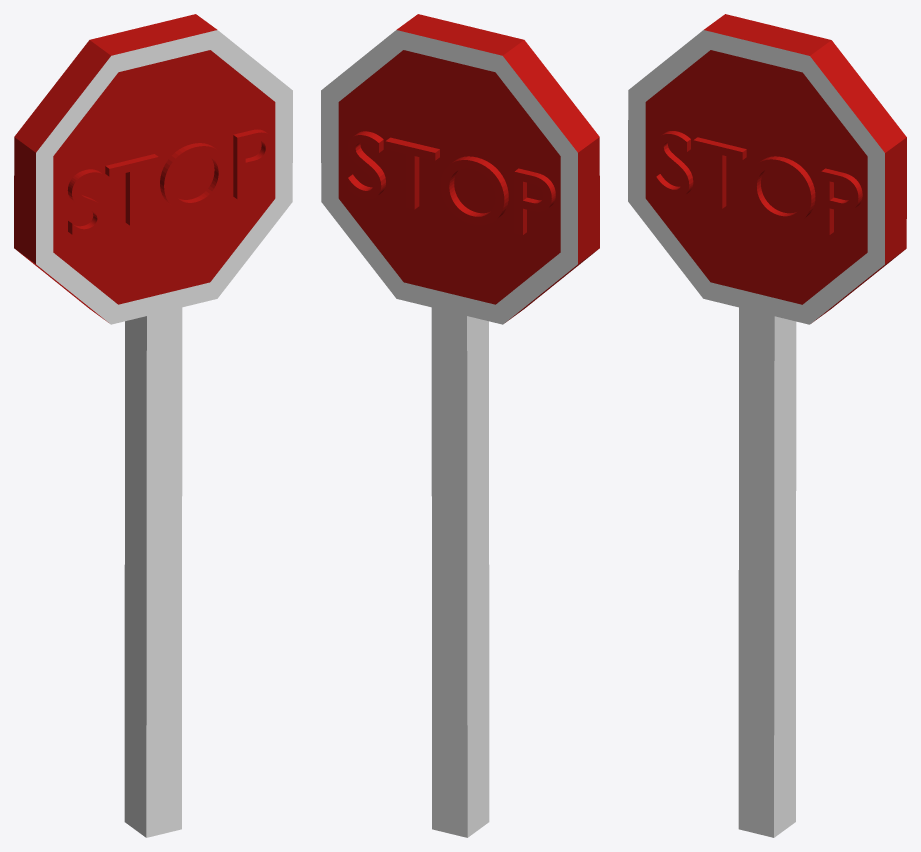
Rendered from stop.fbx.
3 views of the same model, side by side, from view 1: azimuth 30°, elevation 25°; view 2: azimuth 150°, elevation 25°; view 3: azimuth 330°, elevation 25° (orthographic).
Parts seen in each view (by area): view 1: Cylinder; view 2: Cylinder; view 3: Cylinder.
Boxes of the visible parts, <box> form: Cylinder: <box>14,14,292,837</box>; Cylinder: <box>321,14,599,837</box>; Cylinder: <box>628,14,906,837</box>.
Bounding box in the file's own units: 297 × 875 × 63.36.
